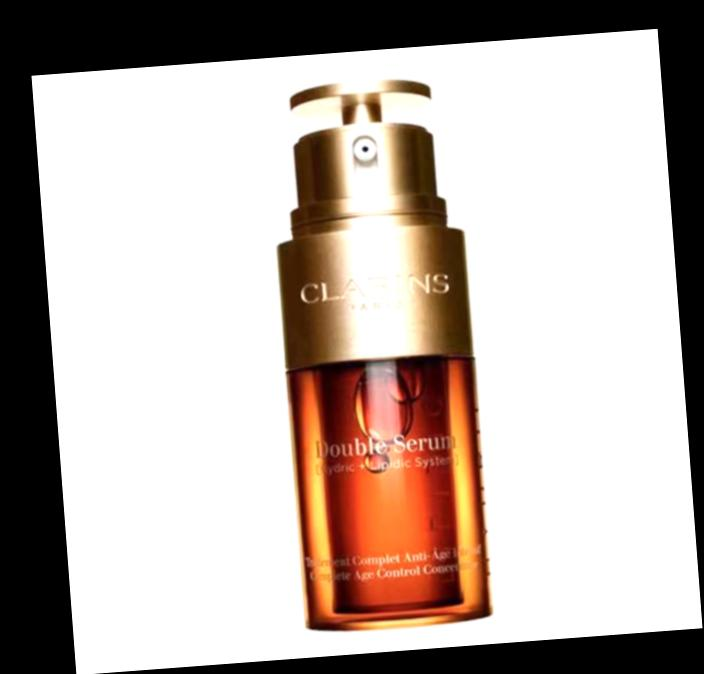cosmetic: (257, 66, 495, 629)
